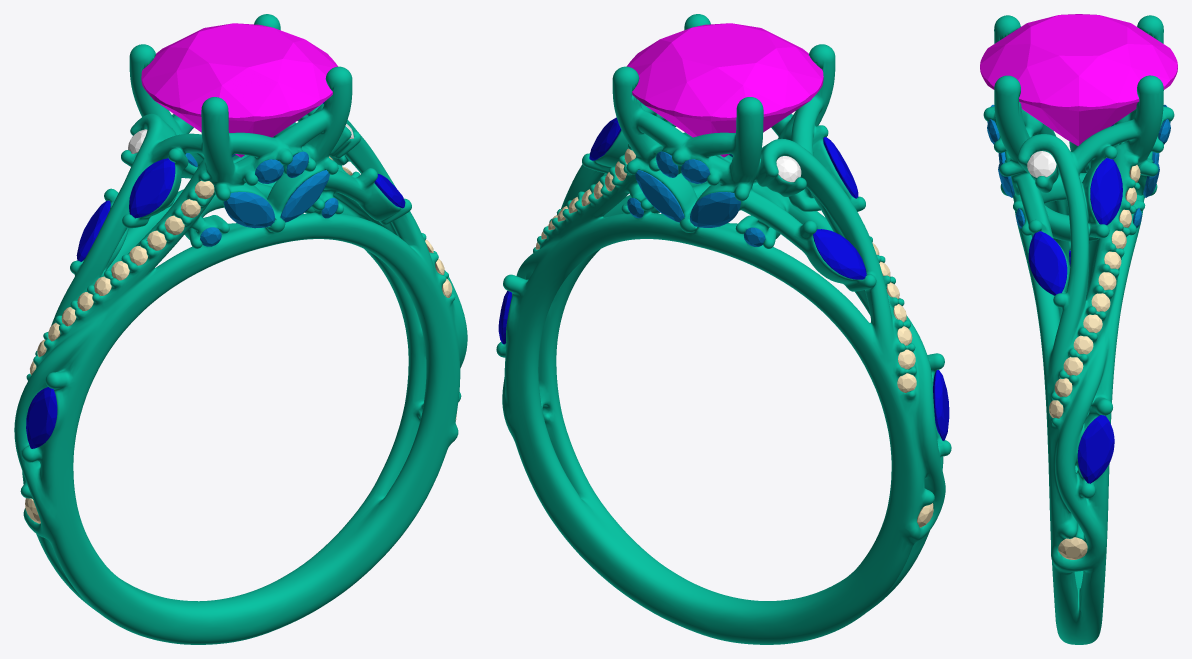
The model's file is BE1D3737_RD_200ct_RENDER.glb.
The picture shows the model from 3 angles, left to right: view 1: azimuth 30°, elevation 25°; view 2: azimuth 150°, elevation 25°; view 3: azimuth 270°, elevation 25°; orthographic projection.
Parts seen in each view (by area): view 1: Metal 01, CS_Diamond_Round, Diamond_Marquise_side.003, Diamond_Marquise_side.005, Diamond_Marquise_Gem_HD.002, Diamond_Marquise_Gem_HD.003, Diamond_Marquise_side.002; view 2: Metal 01, CS_Diamond_Round, Diamond_Marquise_side.002, Diamond_Marquise_Gem_HD.001, Diamond_Marquise_Gem_HD, Diamond_Marquise_side.005, Diamond_Marquise_side.003, Diamond_Marquise_side; view 3: Metal 01, CS_Diamond_Round, Diamond_Marquise_side.001, Diamond_Marquise_side.004, Diamond_Marquise_side, Diamond_Round_side, Diamond_Round_Gem_SH, Diamond_Round_Gem_SH.004, Diamond_Round_Gem_SH.003, Diamond_Round_Gem_SH.002.
Boxes of the visible parts, <box> form: Metal 01: <box>14,14,467,644</box>; CS_Diamond_Round: <box>141,23,337,157</box>; Diamond_Marquise_side.003: <box>129,158,175,218</box>; Diamond_Marquise_side.005: <box>26,387,57,448</box>; Diamond_Marquise_Gem_HD.002: <box>224,192,274,228</box>; Diamond_Marquise_Gem_HD.003: <box>280,170,329,222</box>; Diamond_Marquise_side.002: <box>76,200,110,261</box>; Metal 01: <box>496,14,951,644</box>; CS_Diamond_Round: <box>627,23,823,157</box>; Diamond_Marquise_side.002: <box>813,229,866,279</box>; Diamond_Marquise_Gem_HD.001: <box>690,192,740,227</box>; Diamond_Marquise_Gem_HD: <box>635,170,684,222</box>; Diamond_Marquise_side.005: <box>933,370,949,440</box>; Diamond_Marquise_side.003: <box>823,137,858,198</box>; Diamond_Marquise_side: <box>589,117,621,160</box>; Metal 01: <box>983,15,1174,644</box>; CS_Diamond_Round: <box>980,14,1177,145</box>; Diamond_Marquise_side.001: <box>1028,231,1067,295</box>; Diamond_Marquise_side.004: <box>1077,415,1114,483</box>; Diamond_Marquise_side: <box>1090,158,1122,225</box>; Diamond_Round_side: <box>1027,151,1056,177</box>; Diamond_Round_Gem_SH: <box>1058,537,1087,559</box>; Diamond_Round_Gem_SH.004: <box>1063,357,1083,375</box>; Diamond_Round_Gem_SH.003: <box>1073,335,1093,354</box>; Diamond_Round_Gem_SH.002: <box>1083,314,1102,332</box>.
Bounding box in the file's own units: 20.62 × 26.25 × 8.
